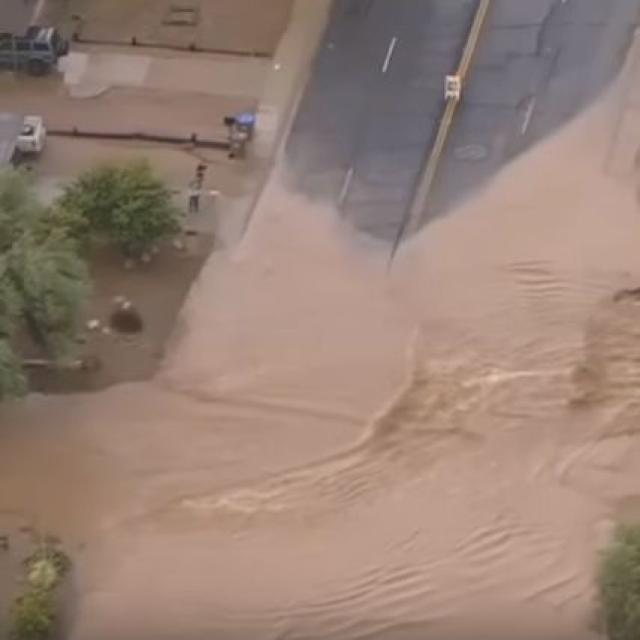flooded_areas: (4, 112, 637, 639)
